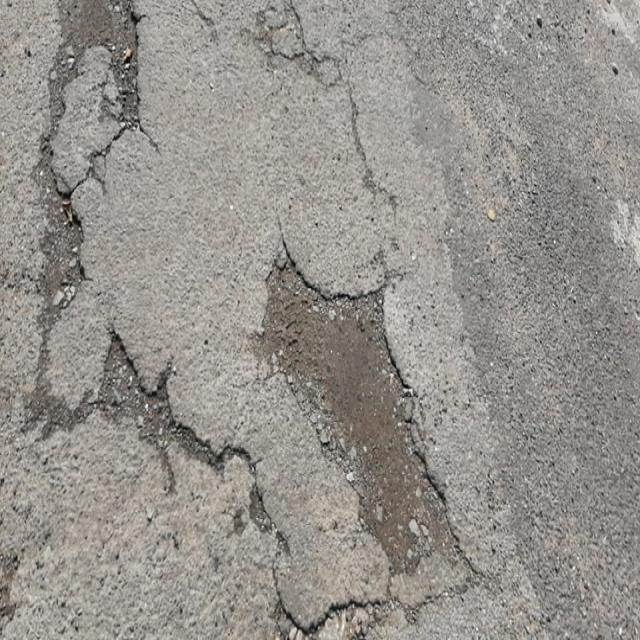Pothole: (264, 264, 469, 606)
